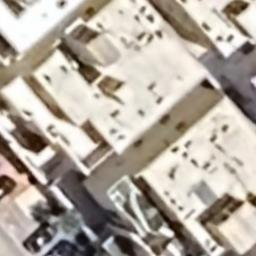SUV: (22, 220, 56, 254)
